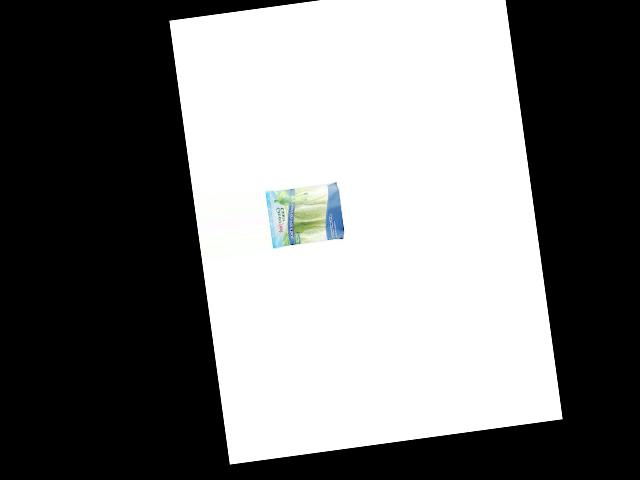lettuce: (268, 179, 348, 248)
